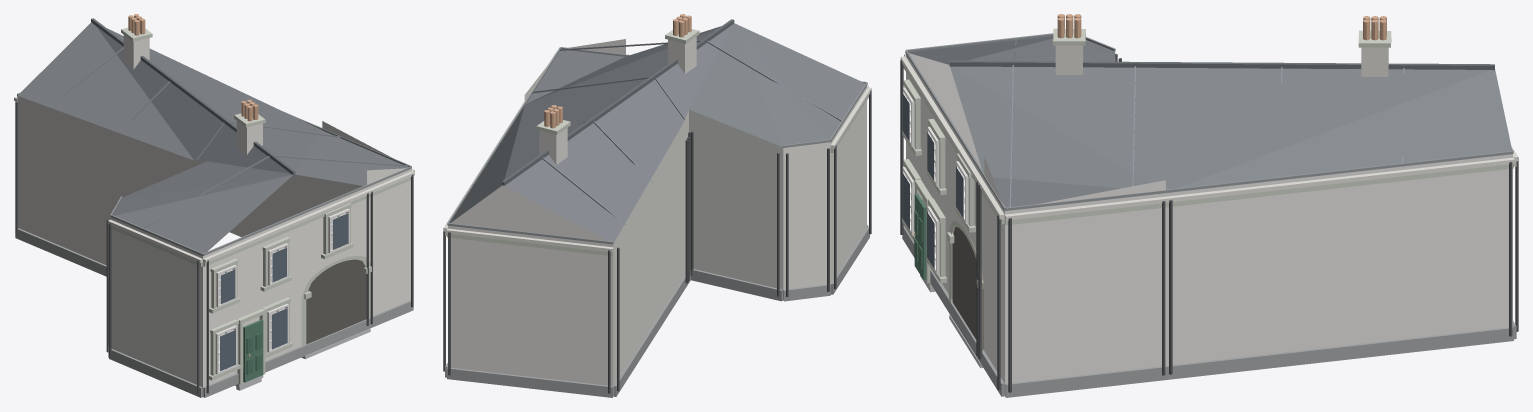
The picture shows the model from 3 angles, left to right: view 1: azimuth 30°, elevation 25°; view 2: azimuth 150°, elevation 25°; view 3: azimuth 270°, elevation 25°; orthographic projection. The views are drawn at different scales.
Parts seen in each view (by area): view 1: harl, slate, dress_sage, plinth, pend_dark, pipe, string, frame, lead, chim_render, slate_lt, slate_dk (+9 smaller); view 2: harl, slate, plinth, pipe, string, lead, chim_render, dress_sage, slate_dk, slate_lt, pot; view 3: harl, slate, plinth, dress_sage, pipe, string, lead, slate_dk, pend_dark, frame, chim_render, pot (+2 smaller).
Part boxes in pixels (left/top/right/bottom): harl: left=17, top=96, right=411, bottom=396; slate: left=18, top=22, right=408, bottom=253; dress_sage: left=15, top=27, right=410, bottom=384; plinth: left=15, top=228, right=413, bottom=397; pend_dark: left=306, top=259, right=366, bottom=344; pipe: left=15, top=102, right=413, bottom=393; string: left=14, top=96, right=414, bottom=262; frame: left=215, top=208, right=349, bottom=374; lead: left=17, top=92, right=411, bottom=255; chim_render: left=123, top=35, right=262, bottom=154; slate_lt: left=47, top=47, right=408, bottom=228; slate_dk: left=91, top=18, right=295, bottom=174; harl: left=448, top=39, right=866, bottom=396; slate: left=450, top=23, right=864, bottom=242; plinth: left=445, top=225, right=869, bottom=397; pipe: left=443, top=90, right=871, bottom=393; string: left=443, top=51, right=871, bottom=252; lead: left=447, top=47, right=867, bottom=244; chim_render: left=539, top=36, right=696, bottom=164; dress_sage: left=445, top=29, right=868, bottom=256; slate_dk: left=501, top=19, right=734, bottom=185; slate_lt: left=473, top=40, right=841, bottom=224; pot: left=544, top=14, right=691, bottom=128; harl: left=906, top=53, right=1512, bottom=395; slate: left=908, top=36, right=1511, bottom=207; plinth: left=902, top=226, right=1516, bottom=397; dress_sage: left=902, top=28, right=1516, bottom=352; pipe: left=900, top=54, right=1518, bottom=392; string: left=900, top=54, right=1518, bottom=220; lead: left=905, top=33, right=1513, bottom=210; slate_dk: left=949, top=60, right=1494, bottom=70; pend_dark: left=952, top=227, right=976, bottom=339; frame: left=902, top=87, right=968, bottom=274; chim_render: left=1055, top=45, right=1388, bottom=76; pot: left=1057, top=14, right=1386, bottom=40.
Bounding box in the file's own units: 11.39 × 8.82 × 16.41.
